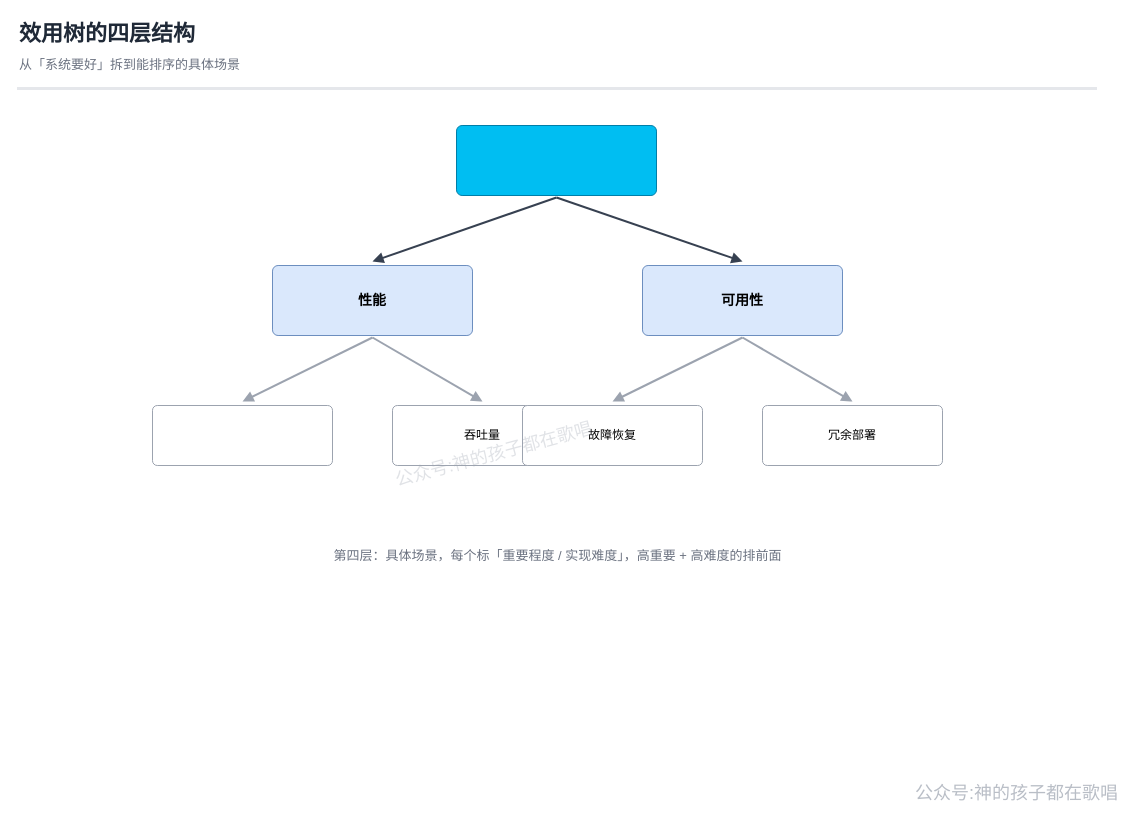
This 1137x827 diagram has some shape labels left out. Here are the shapes that lost their labels. From the top down, the centre of each, then its label:
the point at 556,160: 效用
the point at 242,435: 响应时间
